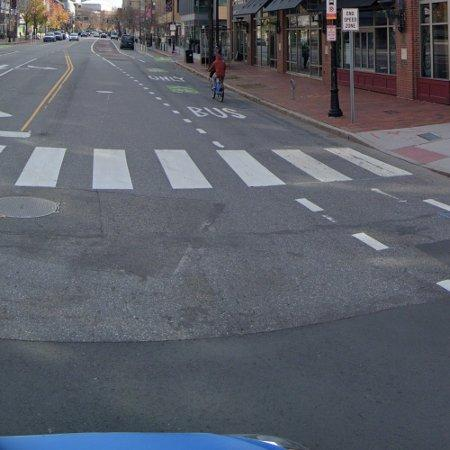crosswalks: (12, 144, 416, 190)
